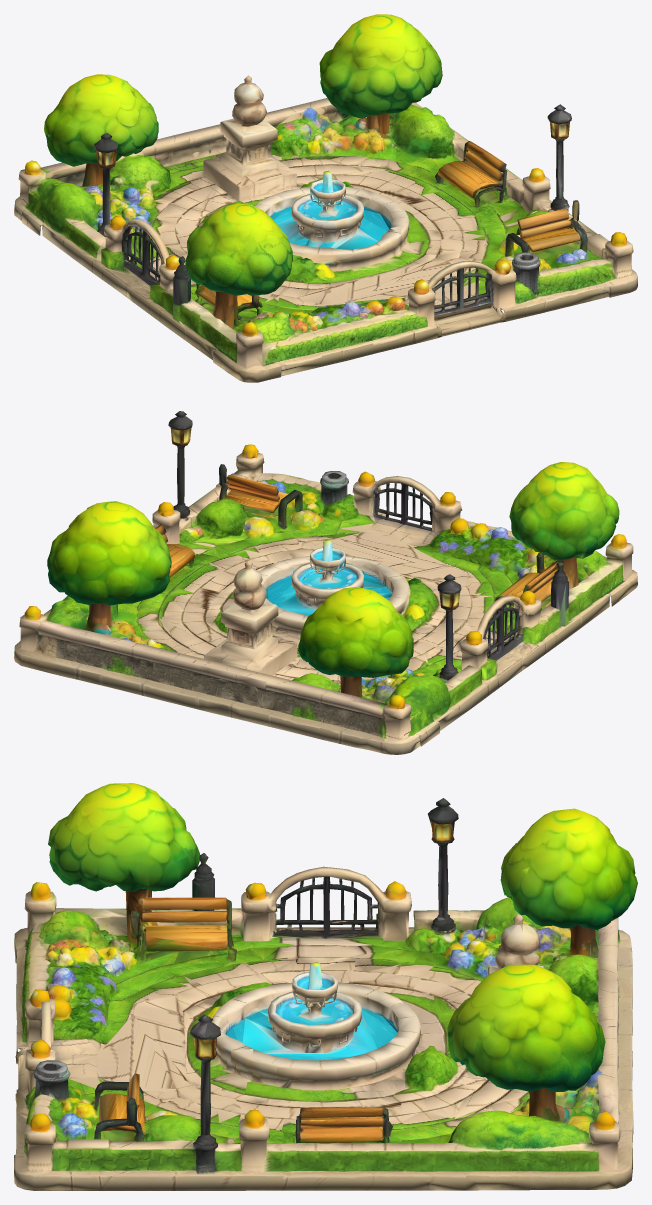
Rendered from parc.glb.
The picture shows the model from 3 angles, top to bottom: view 1: azimuth 30°, elevation 25°; view 2: azimuth 150°, elevation 25°; view 3: azimuth 270°, elevation 25°; orthographic projection. The views are drawn at different scales.
Parts seen in each view (by area): view 1: Mesh_0; view 2: Mesh_0; view 3: Mesh_0.
Boxes of the visible parts, x1,y1,x2,y2 form: Mesh_0: (14, 14, 637, 382); Mesh_0: (14, 411, 637, 754); Mesh_0: (14, 783, 637, 1190).
Bounding box in the file's own units: 1.85 × 0.6109 × 1.9.
Materials: 1 (1 with a texture image).
